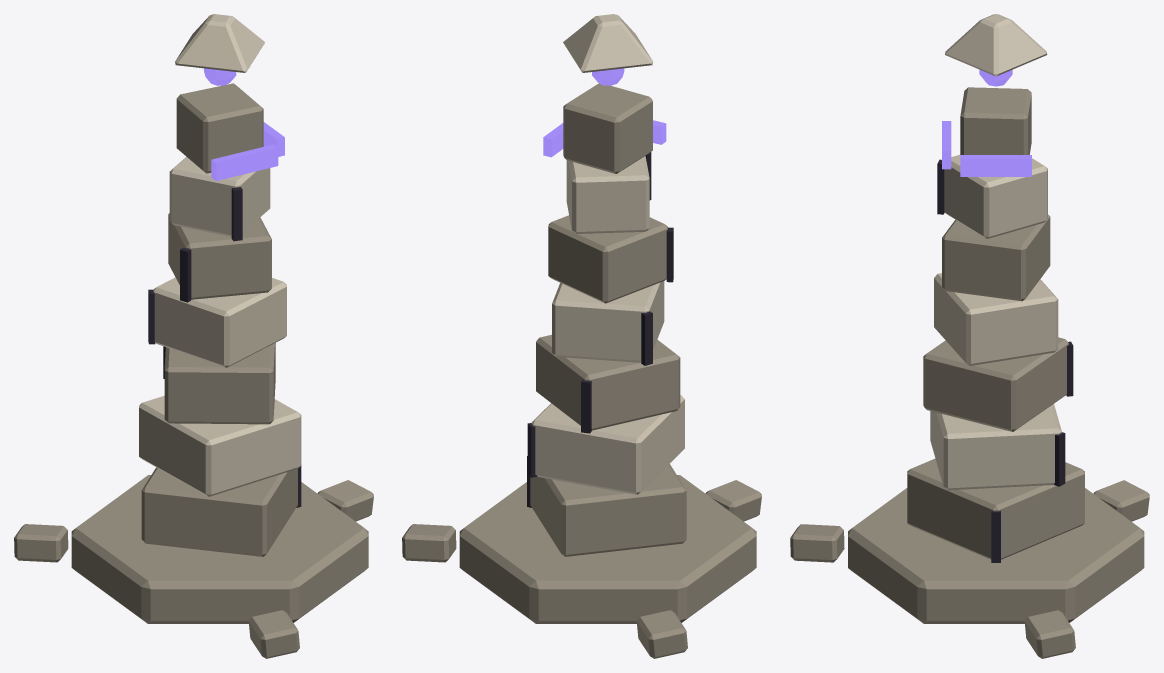
File: exo-sentinel.glb
3 renders of one model, left to right at view 1: azimuth 30°, elevation 25°; view 2: azimuth 150°, elevation 25°; view 3: azimuth 270°, elevation 25°, orthographic.
Parts seen in each view (by area): view 1: body; view 2: body; view 3: body.
Boxes of the visible parts, x1,y1,x2,y2 form: body: (14,14,373,658); body: (402,14,761,658); body: (790,14,1149,658).
Size of the model in its own units: 4.6 by 7.71 by 4.51.
